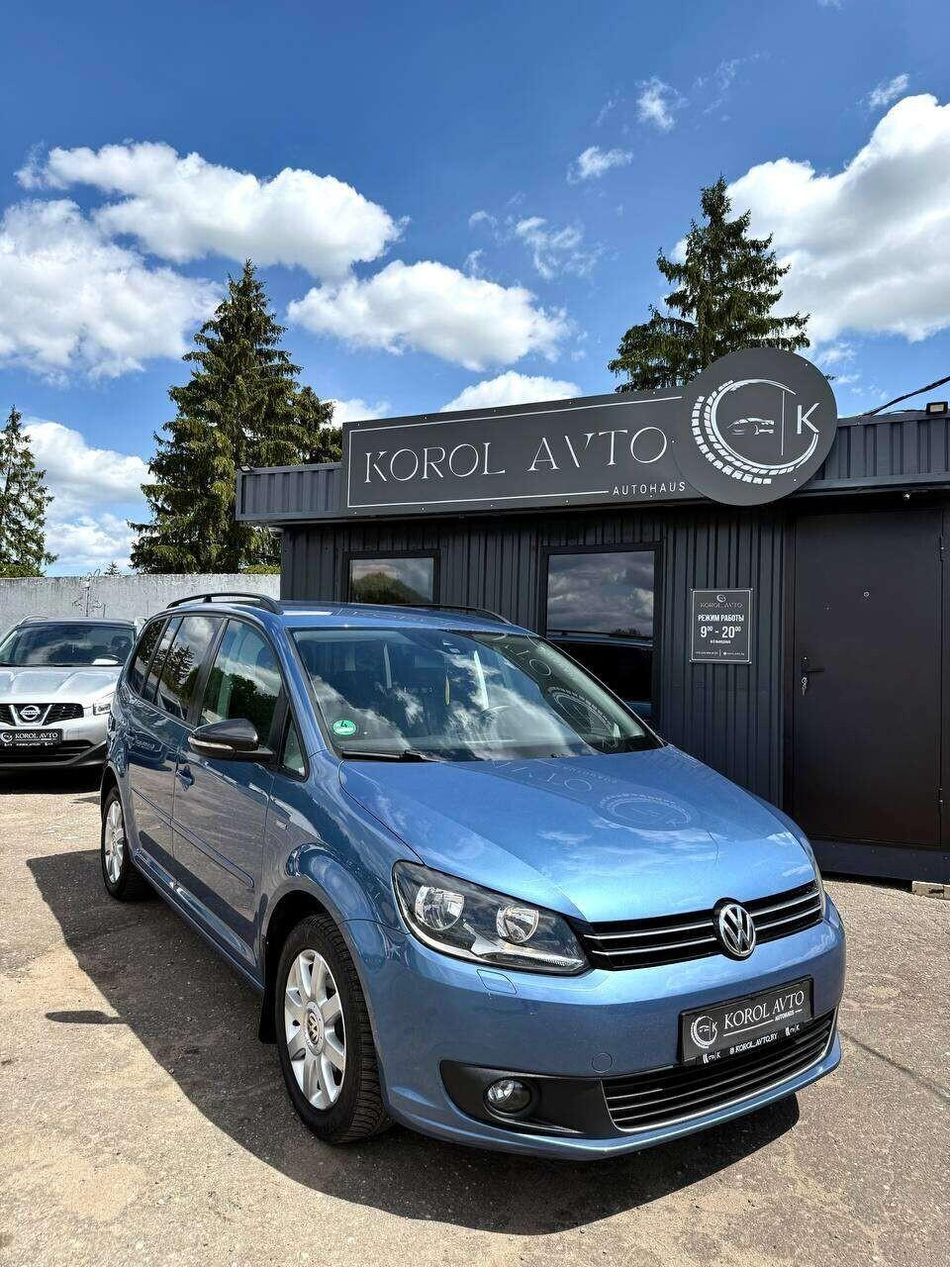Touran_2010-2015: (96, 597, 853, 1175)
